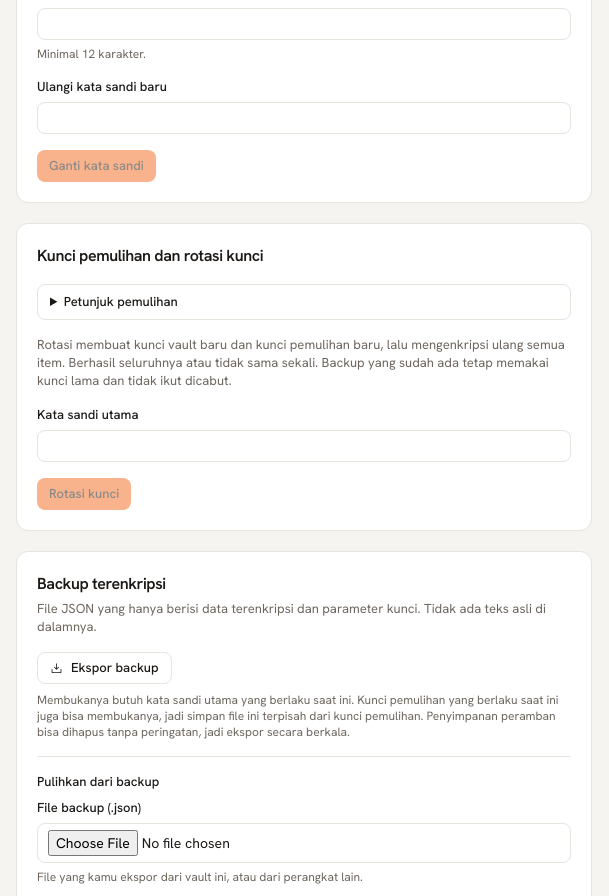
Test: key rotation › refuses a wrong password without changing anything
(page scrolled)
Type "definitely wrong password" into the password field labelled "Kata sandi utama".
click(304, 446); type("definitely wrong password")  # box [37, 430, 571, 462]
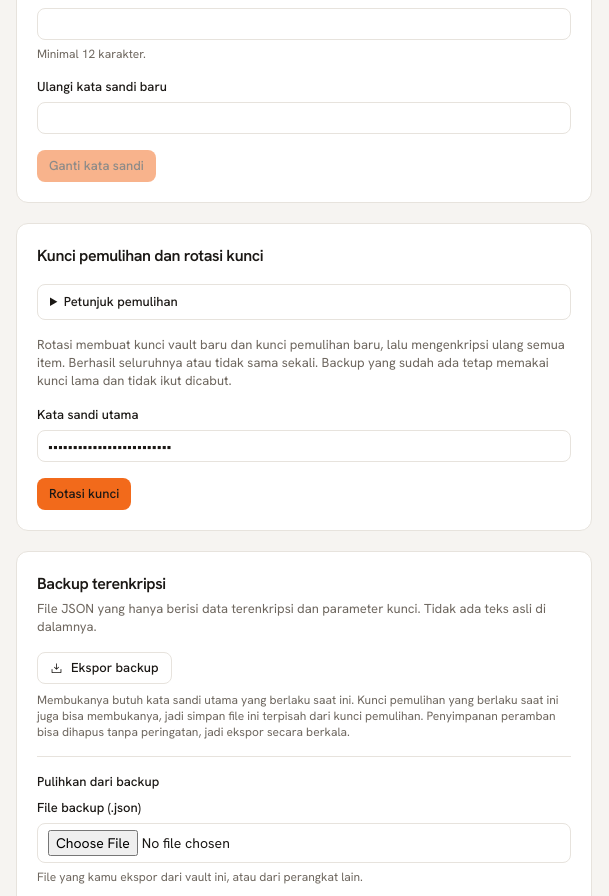
Click the button "Rotasi kunci".
click(84, 494)  # box [37, 478, 131, 510]
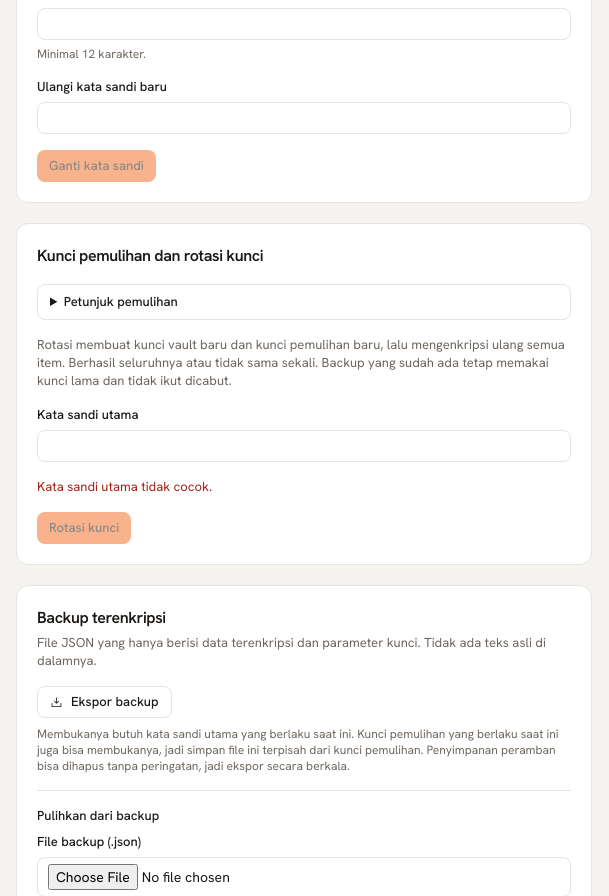
Check: the message reads "Kata sandi utama tidak cocok.", box [37, 478, 212, 495]
